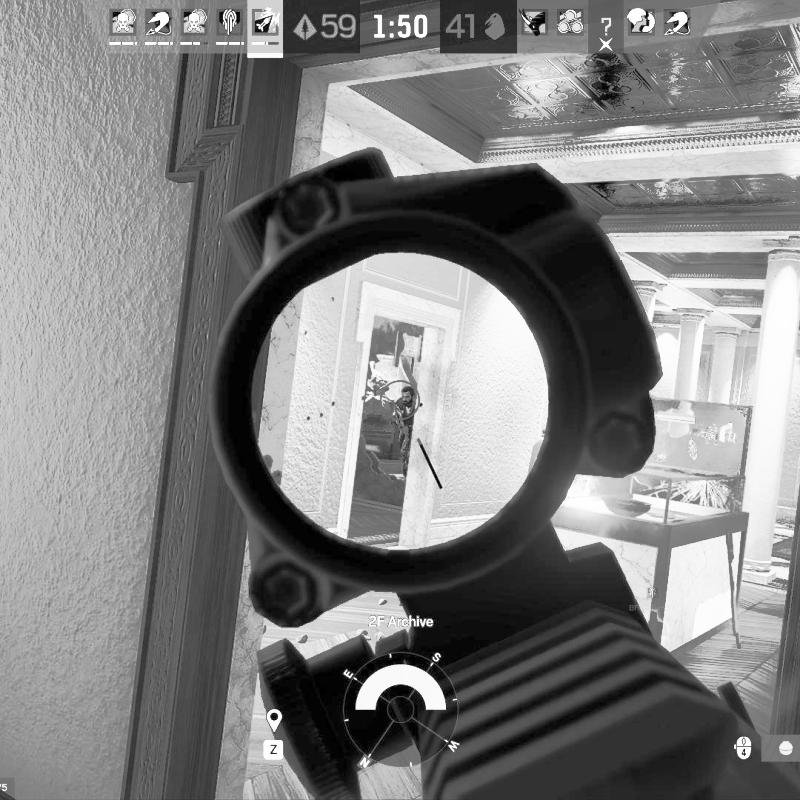Character: (390, 383, 418, 481)
Friend_label: (629, 586, 676, 612)
Head: (399, 384, 416, 406)
